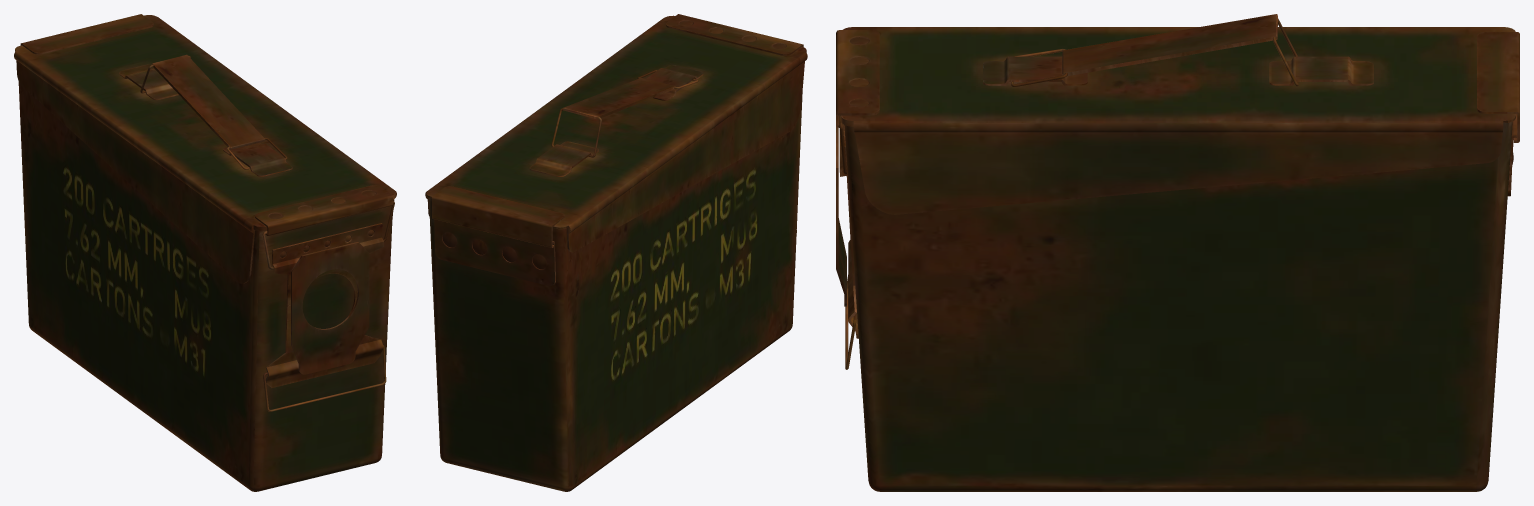
The model's file is ammo_box.glb.
3 views of the same model, side by side, from view 1: azimuth 30°, elevation 25°; view 2: azimuth 150°, elevation 25°; view 3: azimuth 270°, elevation 25° (orthographic). The views are drawn at different scales.
Visible parts, largest first — view 1: ammo_box_handle_ring_b; view 2: ammo_box_handle_ring_b; view 3: ammo_box_handle_ring_b.
Part boxes in pixels (box(x1,y1,x2,y2)): ammo_box_handle_ring_b: box(14, 14, 396, 491); ammo_box_handle_ring_b: box(425, 14, 807, 491); ammo_box_handle_ring_b: box(836, 14, 1519, 491).
Size of the model in its own units: 0.0866 by 0.1775 by 0.2579.
Materials: 1 (1 with a texture image).
